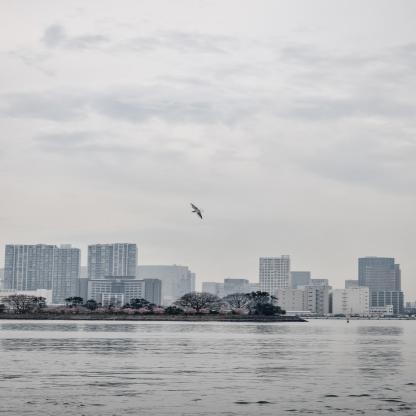bird: (189, 204, 205, 220)
